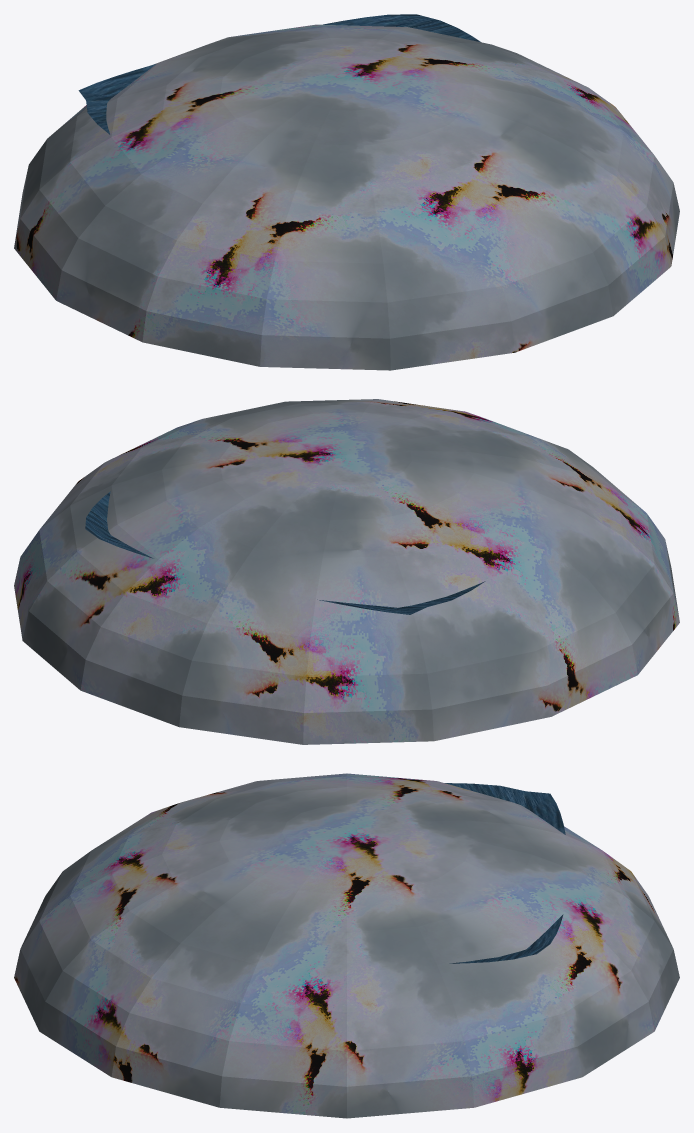
The model's file is track.glb.
The picture shows the model from 3 angles, top to bottom: view 1: azimuth 30°, elevation 25°; view 2: azimuth 150°, elevation 25°; view 3: azimuth 270°, elevation 25°; orthographic projection.
Parts seen in each view (by area): view 1: mesh_35, mesh_15; view 2: mesh_35, mesh_15; view 3: mesh_35, mesh_15.
Part boxes in pixels (left/top/right/bottom): mesh_35: left=14, top=24, right=679, bottom=370; mesh_15: left=78, top=14, right=480, bottom=134; mesh_35: left=14, top=399, right=679, bottom=744; mesh_15: left=85, top=491, right=485, bottom=614; mesh_35: left=14, top=773, right=679, bottom=1118; mesh_15: left=445, top=783, right=565, bottom=963.
Size of the model in its own units: 1610 by 395 by 1610.
24 materials, 24 textured.
